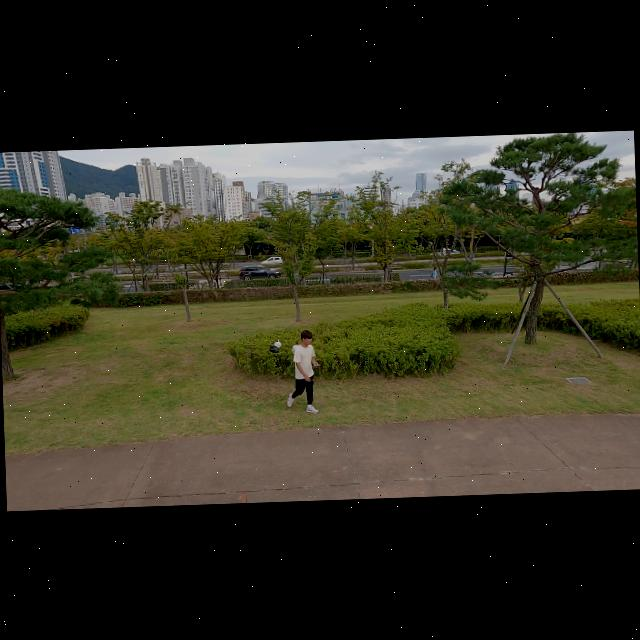trash: (282, 328, 322, 414), (272, 338, 282, 348), (268, 344, 278, 352)
